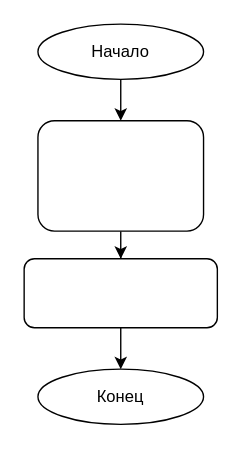
The diagram is 242 pixels wide and 449 high, and some of its shapes have lost their labels. Each missing label, with the centre of its shape:
"delta = sxx*n-sx*sx a = (sxy*n-sx*sy)/delta b= (sxx*sy-sx*sxy)/delta" belongs at (120,292).
"sx = Сумма Xi sxx = Сумма Xi^2 sy = Сумма Yi sxy = Сумма Xi*Yi n" belongs at (120,175).
